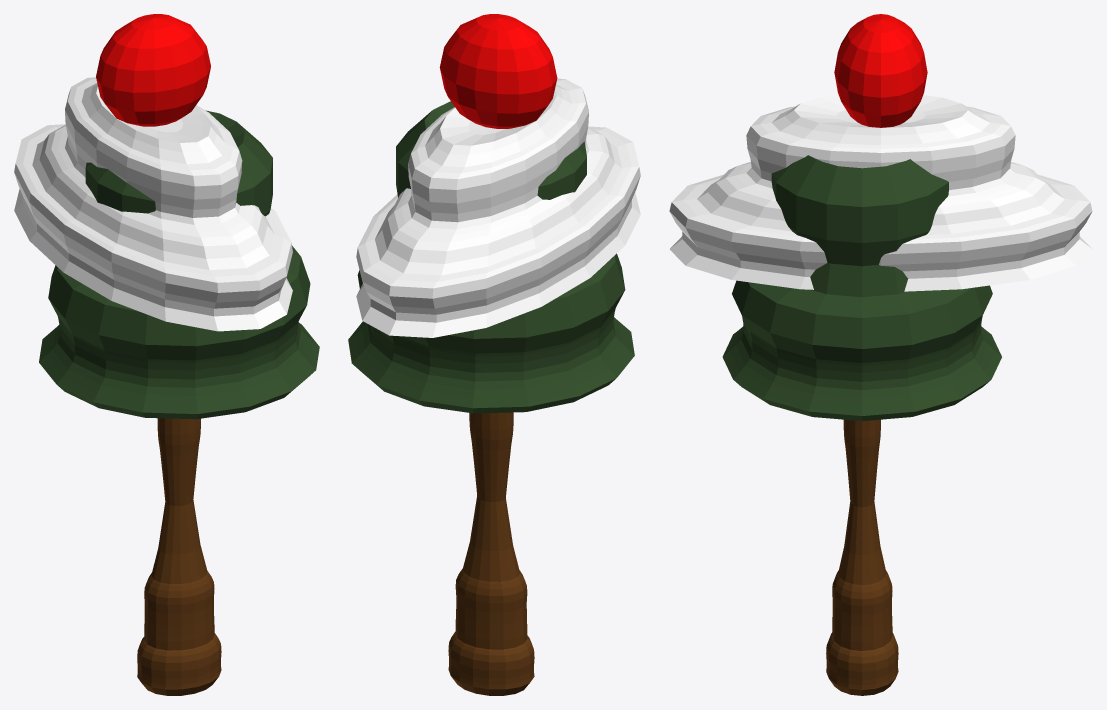
File: treewithsnowredballFBX.fbx
3 renders of one model, left to right at view 1: azimuth 30°, elevation 25°; view 2: azimuth 150°, elevation 25°; view 3: azimuth 270°, elevation 25°, orthographic. The views are drawn at different scales.
Parts seen in each view (by area): view 1: 開いた線形状の回転体, 開いた線形状の回転体_ncl1_1, 開いた線形状の回転体_ncl1_2, 球; view 2: 開いた線形状の回転体, 開いた線形状の回転体_ncl1_1, 開いた線形状の回転体_ncl1_2, 球; view 3: 開いた線形状の回転体_ncl1_1, 開いた線形状の回転体, 開いた線形状の回転体_ncl1_2, 球.
Boxes of the visible parts, x1=… form: 開いた線形状の回転体: x1=14, y1=77, x2=292, y2=331; 開いた線形状の回転体_ncl1_1: x1=39, y1=110, x2=319, y2=419; 開いた線形状の回転体_ncl1_2: x1=137, y1=418, x2=221, y2=695; 球: x1=96, y1=14, x2=210, y2=126; 開いた線形状の回転体: x1=356, y1=78, x2=640, y2=337; 開いた線形状の回転体_ncl1_1: x1=348, y1=101, x2=634, y2=413; 開いた線形状の回転体_ncl1_2: x1=448, y1=412, x2=534, y2=695; 球: x1=439, y1=14, x2=557, y2=128; 開いた線形状の回転体_ncl1_1: x1=722, y1=155, x2=1001, y2=421; 開いた線形状の回転体: x1=669, y1=95, x2=1092, y2=291; 開いた線形状の回転体_ncl1_2: x1=826, y1=419, x2=898, y2=695; 球: x1=834, y1=14, x2=927, y2=127.
Bounding box in the file's own units: 150 × 386 × 227.
